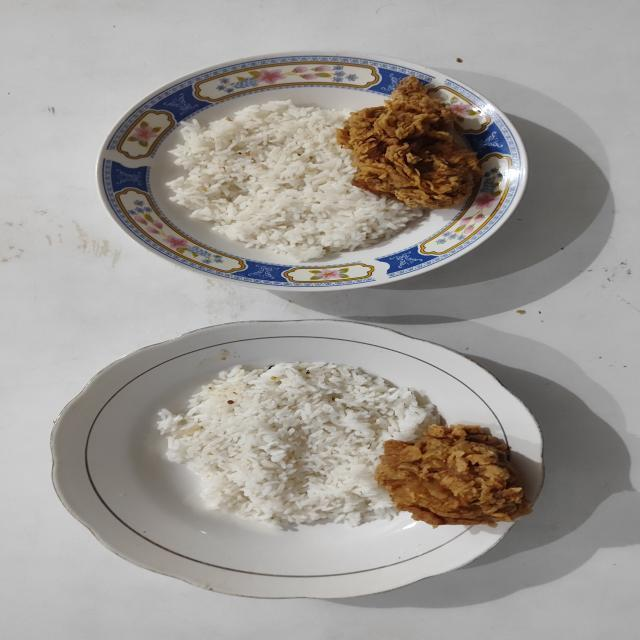nasi_putih: (156, 362, 441, 529), (166, 100, 423, 262)
